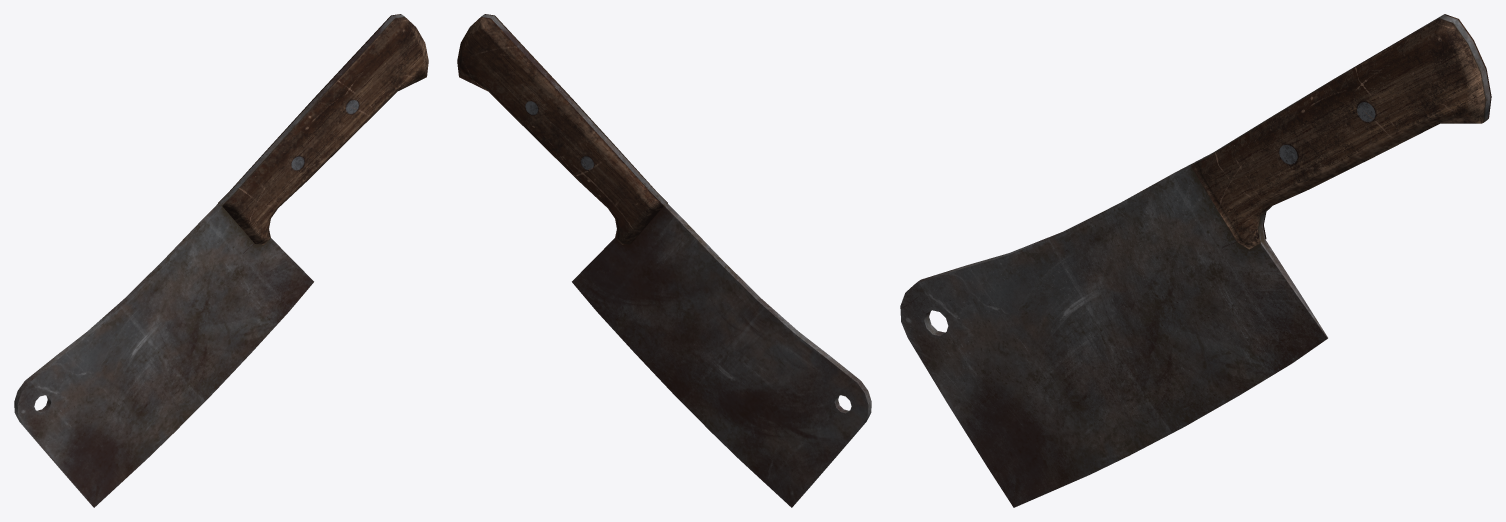
Rendered from Cleaver_Final.fbx.
3 views of the same model, side by side, from view 1: azimuth 30°, elevation 25°; view 2: azimuth 150°, elevation 25°; view 3: azimuth 330°, elevation 25° (orthographic). The views are drawn at different scales.
Parts seen in each view (by area): view 1: blade; view 2: blade; view 3: blade.
Part boxes in pixels (box(x1,y1,x2,y2)): blade: box(14, 14, 428, 507); blade: box(457, 14, 871, 507); blade: box(900, 14, 1491, 507).
Size of the model in its own units: 409 by 398 by 19.88.
